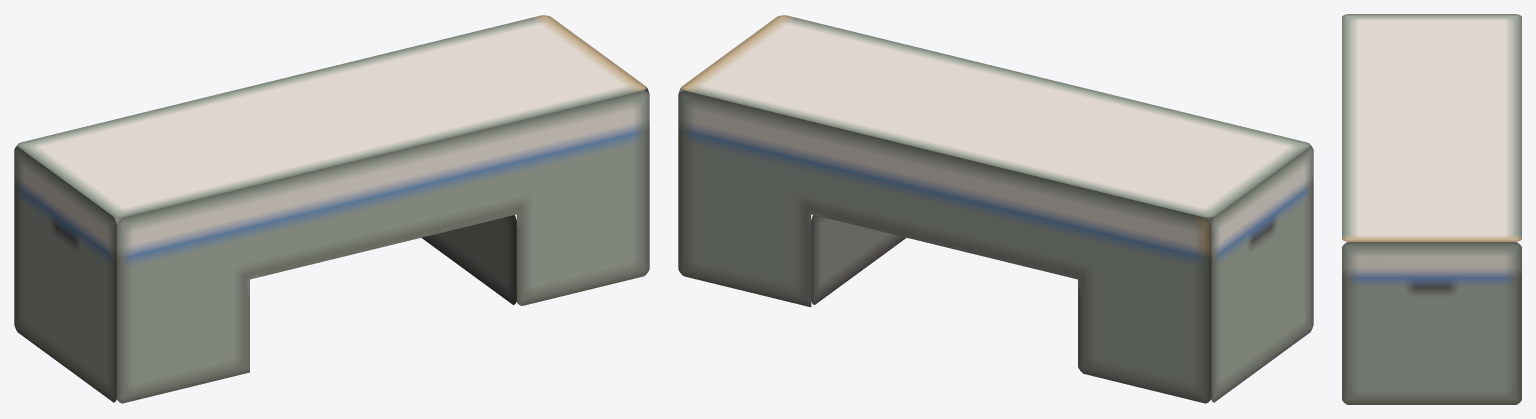
File: labTable.fbx
3 views of the same model, side by side, from view 1: azimuth 30°, elevation 25°; view 2: azimuth 150°, elevation 25°; view 3: azimuth 270°, elevation 25° (orthographic). The views are drawn at different scales.
Parts seen in each view (by area): view 1: labTable; view 2: labTable; view 3: labTable.
Boxes of the visible parts, x1,y1,x2,y2 form: labTable: (14,15,649,403); labTable: (678,15,1313,403); labTable: (1342,14,1521,404).
Bounding box in the file's own units: 450 × 150 × 150.
